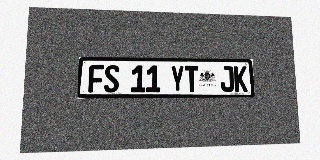1: (131, 65, 145, 92), (146, 65, 160, 92)
F: (88, 65, 104, 93)
J: (220, 66, 234, 92)
K: (234, 66, 248, 92)
S: (104, 65, 119, 93)
T: (185, 66, 199, 92)
Y: (170, 65, 184, 92)
